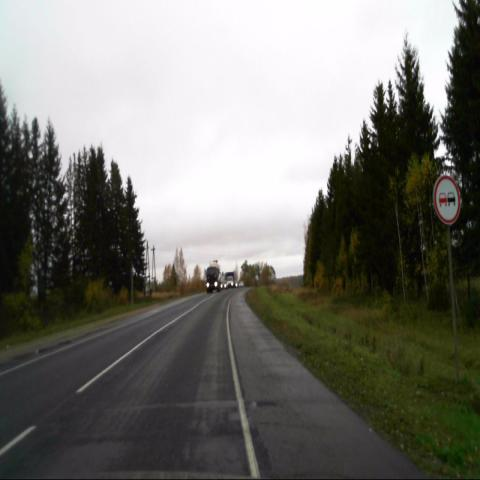3_20: (433, 176, 461, 226)
